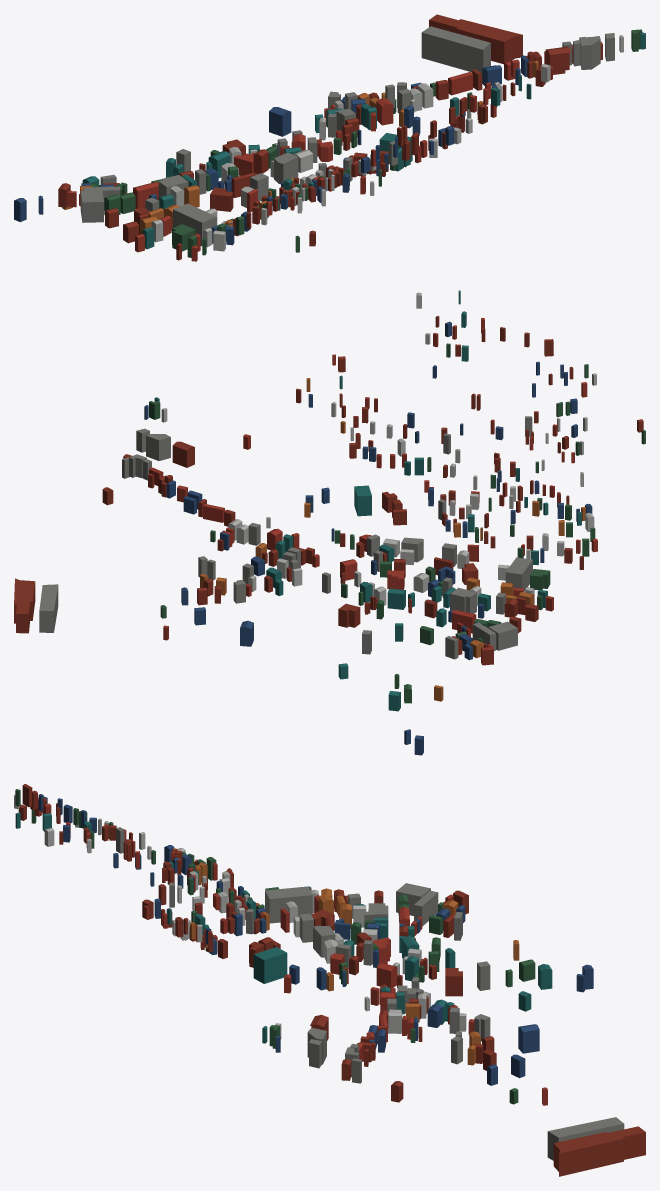
The model's file is near-16-54716-29742.30f600d1.glb.
3 renders of one model, top to bottom at view 1: azimuth 30°, elevation 25°; view 2: azimuth 150°, elevation 25°; view 3: azimuth 270°, elevation 25°, orthographic. The views are drawn at different scales.
Bounding box in the file's own units: 605 × 317 × 627.
